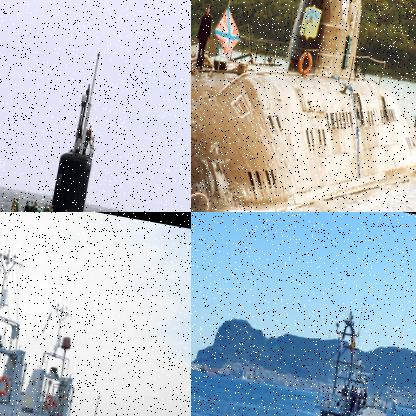Merchant Ship: (396, 400, 415, 411)
Patrol Boat: (191, 287, 415, 415), (0, 212, 113, 415), (0, 284, 137, 415)
Submarine: (191, 0, 415, 211), (0, 7, 153, 211)
